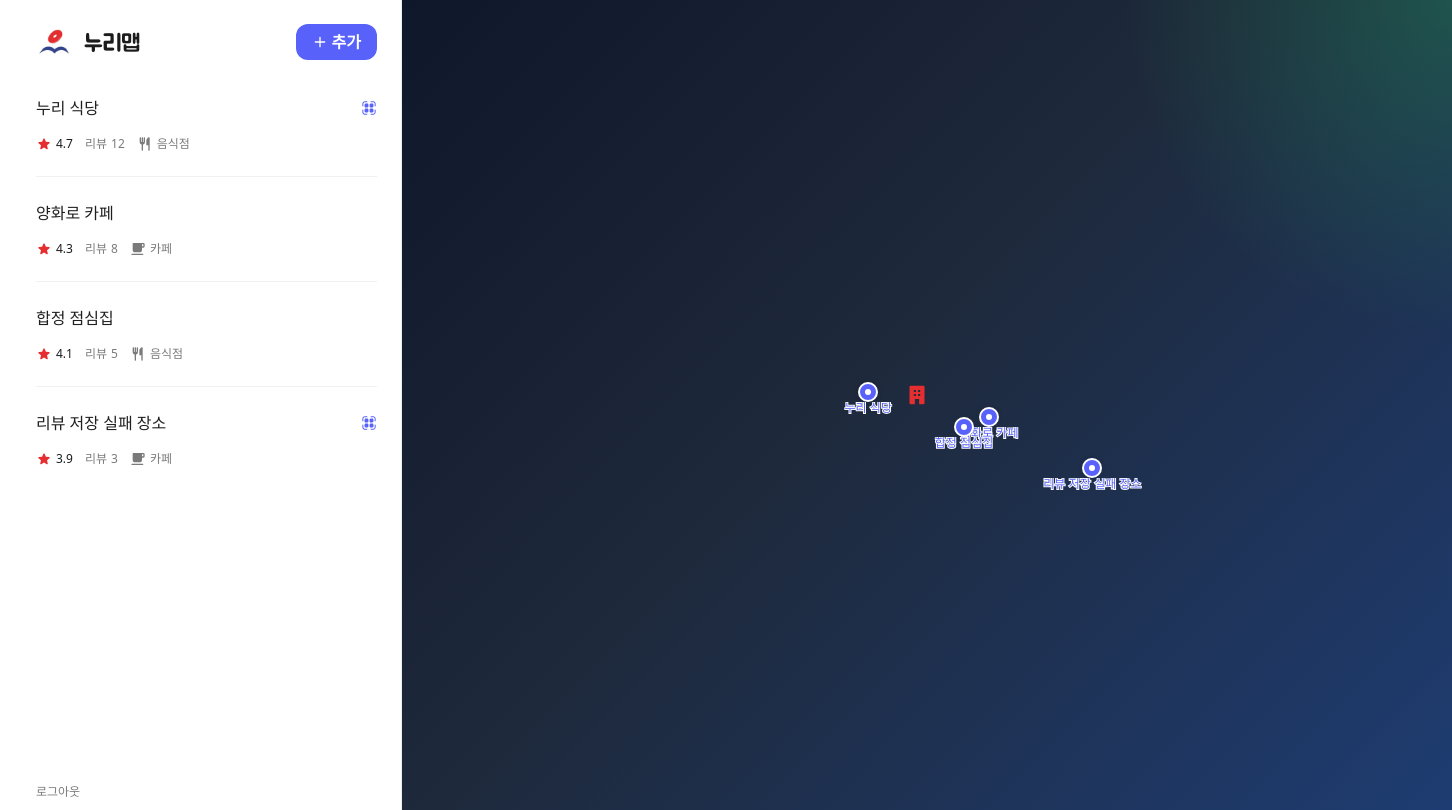
Nurimap place detail › shows the 평가 남기기 CTA on desktop detail when my_review is null
The width and height of the screenshot is (1452, 810).
Click the button with test id "place-list-item-place-cafe-1".
click(75, 213)  # box top-left (12, 181), bottom-right (401, 277)
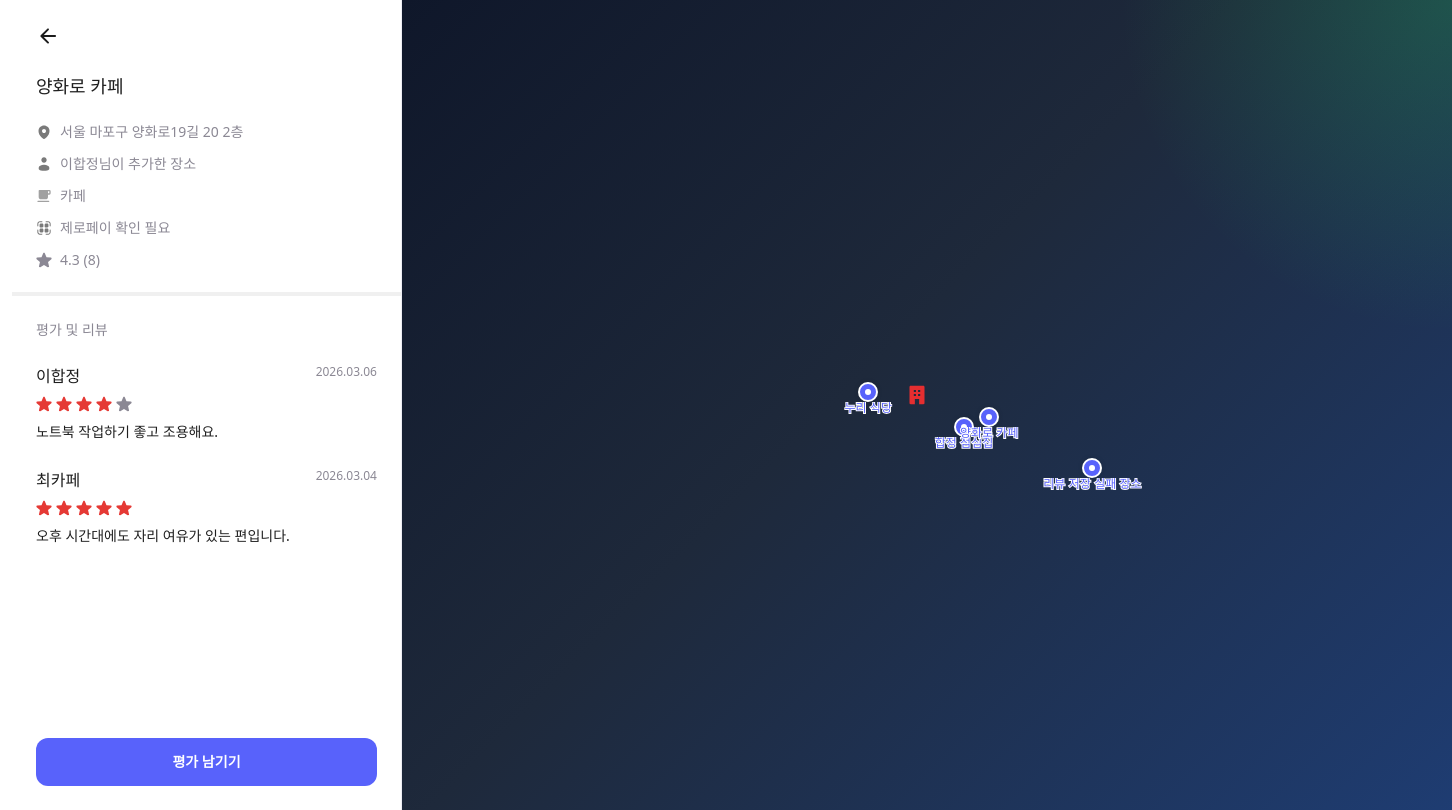
Result: the element with test id "desktop-detail-panel" is shown at top-left (12, 0), bottom-right (401, 809)
Result: the button "평가 남기기" is shown at top-left (36, 738), bottom-right (377, 786)
